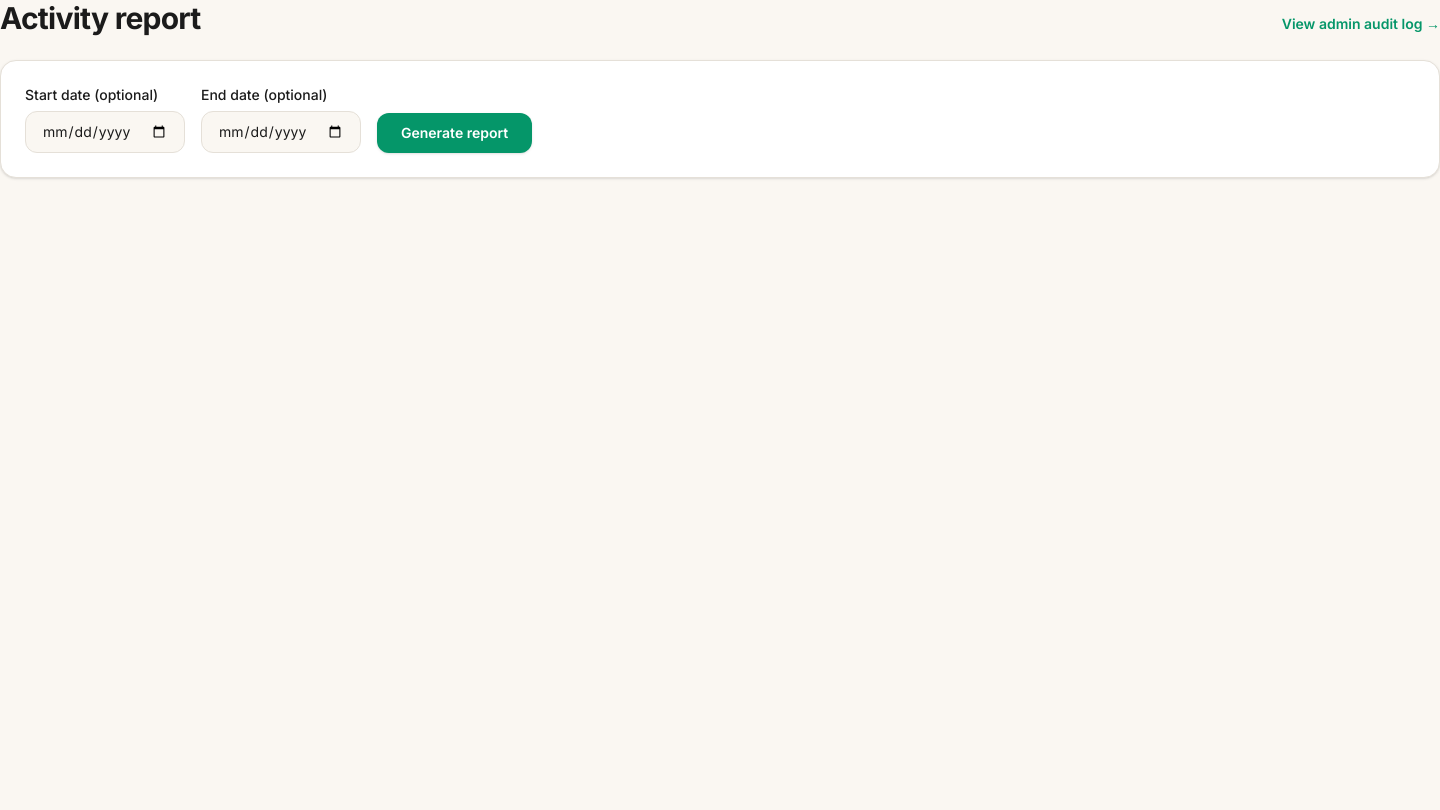
Scenario: shows a "through" note when only an end date was set
The image size is (1440, 810).
Click the button "Generate report" at (455, 133), box [377,113,532,153]
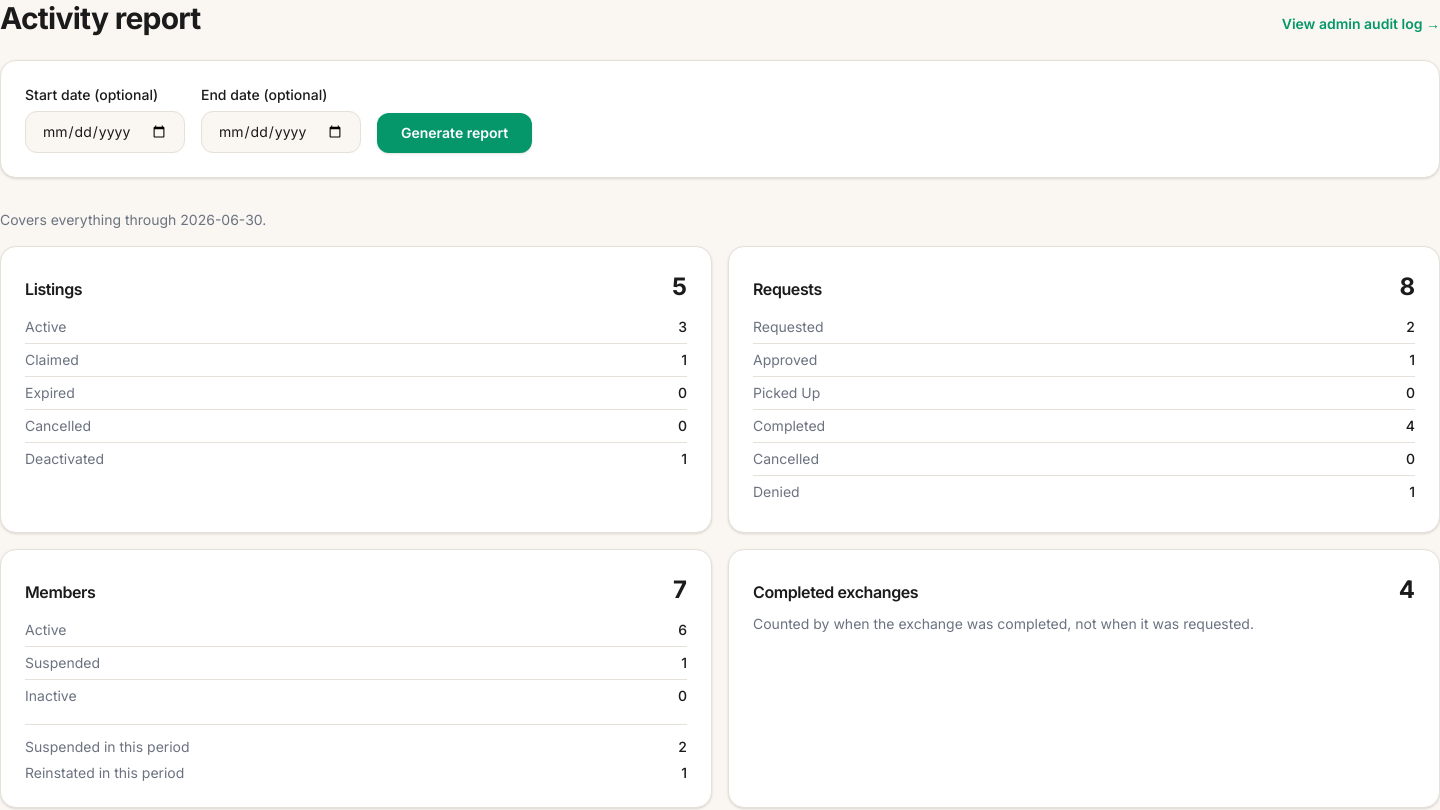
Now the text "Covers everything through 2026-06-30." is shown, box [0,211,266,228]
